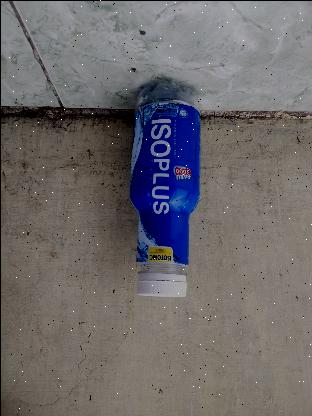Plastic Bottle: (128, 80, 200, 296)
